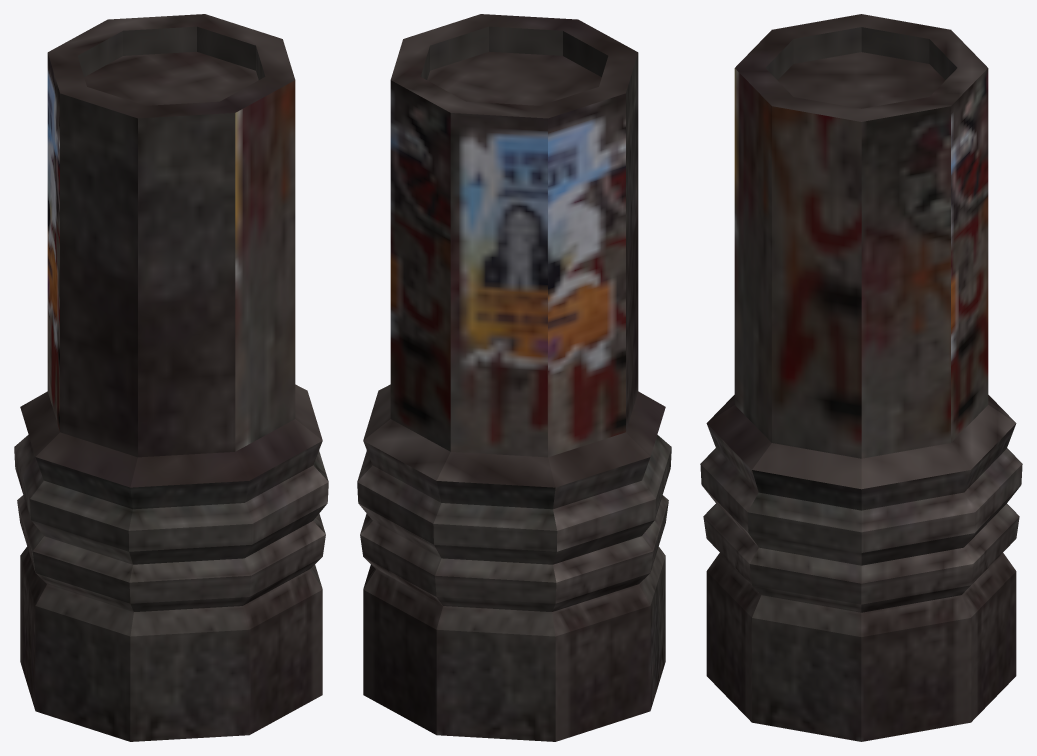
Rendered from Cenicero_Raro.fbx.
The picture shows the model from 3 angles, left to right: view 1: azimuth 30°, elevation 25°; view 2: azimuth 150°, elevation 25°; view 3: azimuth 270°, elevation 25°; orthographic projection.
Visible parts, largest first — view 1: Cenicerro_pie.001; view 2: Cenicerro_pie.001; view 3: Cenicerro_pie.001.
Boxes of the visible parts, left/top/right/bottom form: Cenicerro_pie.001: left=14, top=14, right=328, bottom=741; Cenicerro_pie.001: left=357, top=14, right=671, bottom=741; Cenicerro_pie.001: left=700, top=14, right=1022, bottom=741.
Size of the model in its own units: 99.85 by 206 by 99.1.
1 material, 1 textured.
